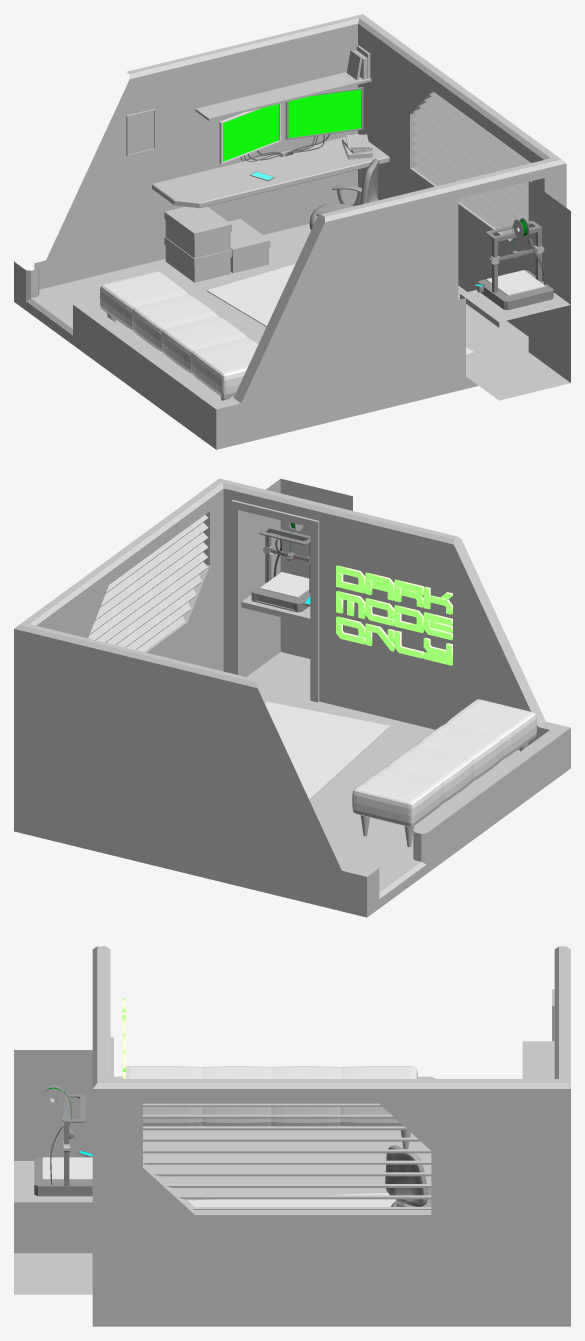
File: lab_model.glb
3 renders of one model, top to bottom at view 1: azimuth 30°, elevation 25°; view 2: azimuth 150°, elevation 25°; view 3: azimuth 270°, elevation 25°, orthographic. The views are drawn at different scales.
Parts seen in each view (by area): view 1: Walls, Couch, Shutter, R Monitor, Cube.001, L Monitor, Rug, Cube.003, Cube.002, Cube, Office Chair_REX, Frame (+3 smaller); view 2: Walls, Couch, Shutter, Text, Rug, 3D printer body, 3D printer gantry, 3D printer bed; view 3: Walls, Shutter, Couch, Rug, Office Chair_REX, Cube.003, 3D printer body, 3D printer bed, 3D printer gantry, spool.
Part boxes in pixels (x1=…): Walls: x1=14, y1=14, x2=570, y2=449; Couch: x1=99, y1=271, x2=258, y2=398; Shutter: x1=411, y1=92, x2=531, y2=239; R Monitor: x1=285, y1=87, x2=363, y2=139; Cube.001: x1=164, y1=206, x2=231, y2=258; L Monitor: x1=219, y1=103, x2=281, y2=164; Rug: x1=206, y1=264, x2=474, y2=355; Cube.003: x1=195, y1=72, x2=371, y2=120; Cube.002: x1=228, y1=218, x2=270, y2=273; Cube: x1=164, y1=237, x2=231, y2=282; Office Chair_REX: x1=309, y1=159, x2=379, y2=229; Frame: x1=126, y1=108, x2=155, y2=156; Walls: x1=14, y1=478, x2=570, y2=917; Couch: x1=352, y1=699, x2=536, y2=827; Shutter: x1=88, y1=515, x2=208, y2=651; Text: x1=336, y1=565, x2=452, y2=665; Rug: x1=265, y1=701, x2=390, y2=800; 3D printer body: x1=251, y1=571, x2=310, y2=612; 3D printer gantry: x1=259, y1=526, x2=310, y2=592; 3D printer bed: x1=259, y1=572, x2=309, y2=598; Walls: x1=14, y1=946, x2=570, y2=1326; Shutter: x1=143, y1=1103, x2=431, y2=1209; Couch: x1=122, y1=1066, x2=417, y2=1126; Rug: x1=188, y1=1193, x2=396, y2=1206; Office Chair_REX: x1=385, y1=1145, x2=431, y2=1206; Cube.003: x1=522, y1=1041, x2=554, y2=1078; 3D printer body: x1=34, y1=1157, x2=92, y2=1196; 3D printer bed: x1=42, y1=1157, x2=92, y2=1180; 3D printer gantry: x1=64, y1=1094, x2=85, y2=1185; spool: x1=41, y1=1085, x2=64, y2=1110.
Bounding box in the file's own units: 28.72 × 16.01 × 33.45.
